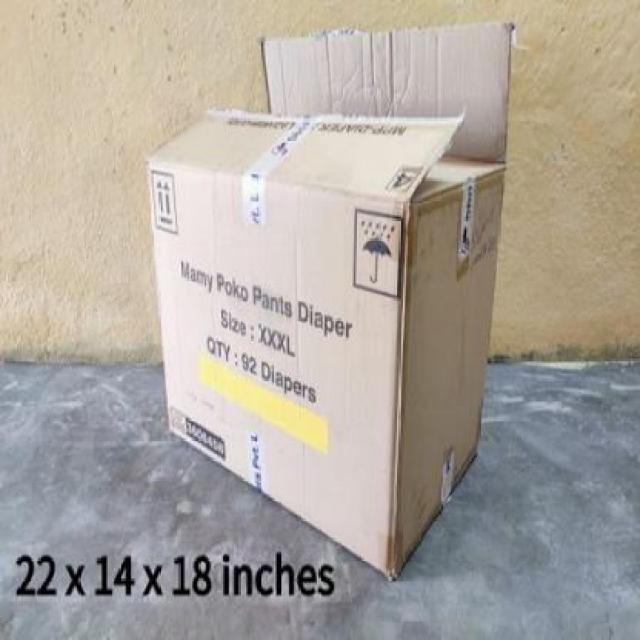box: (153, 25, 513, 578)
